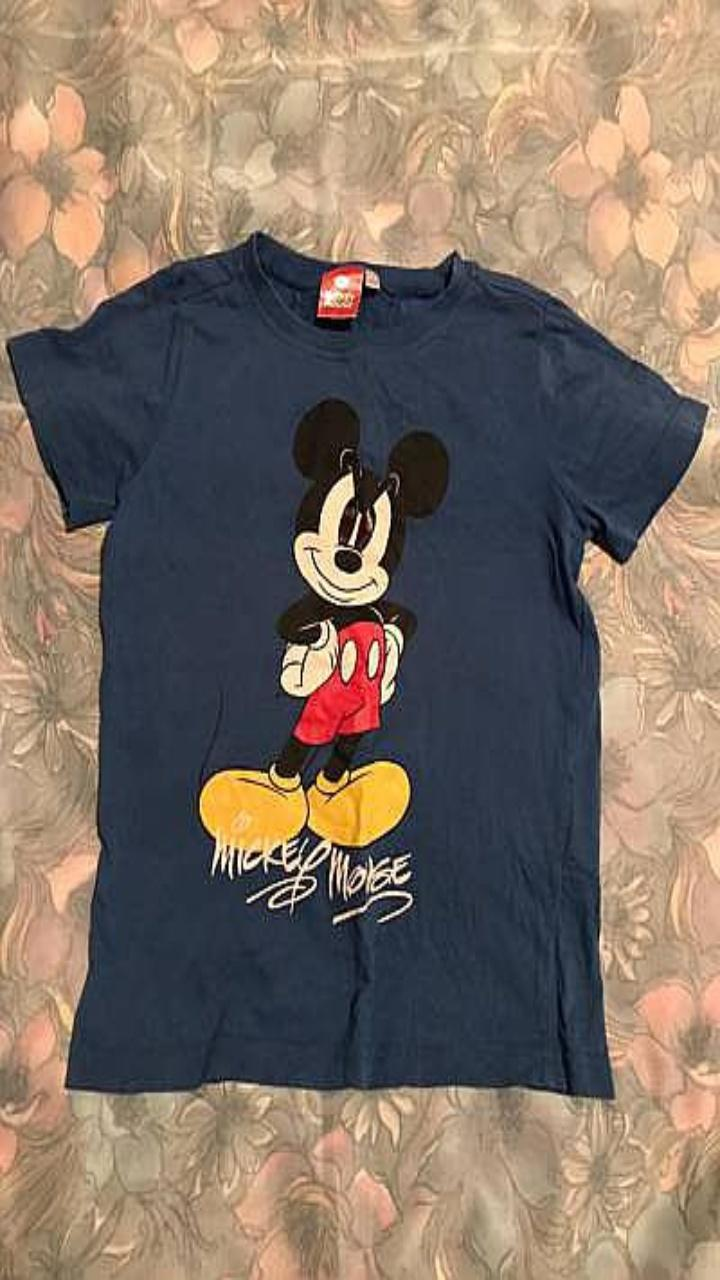T-Shirt: (7, 230, 706, 1097)
